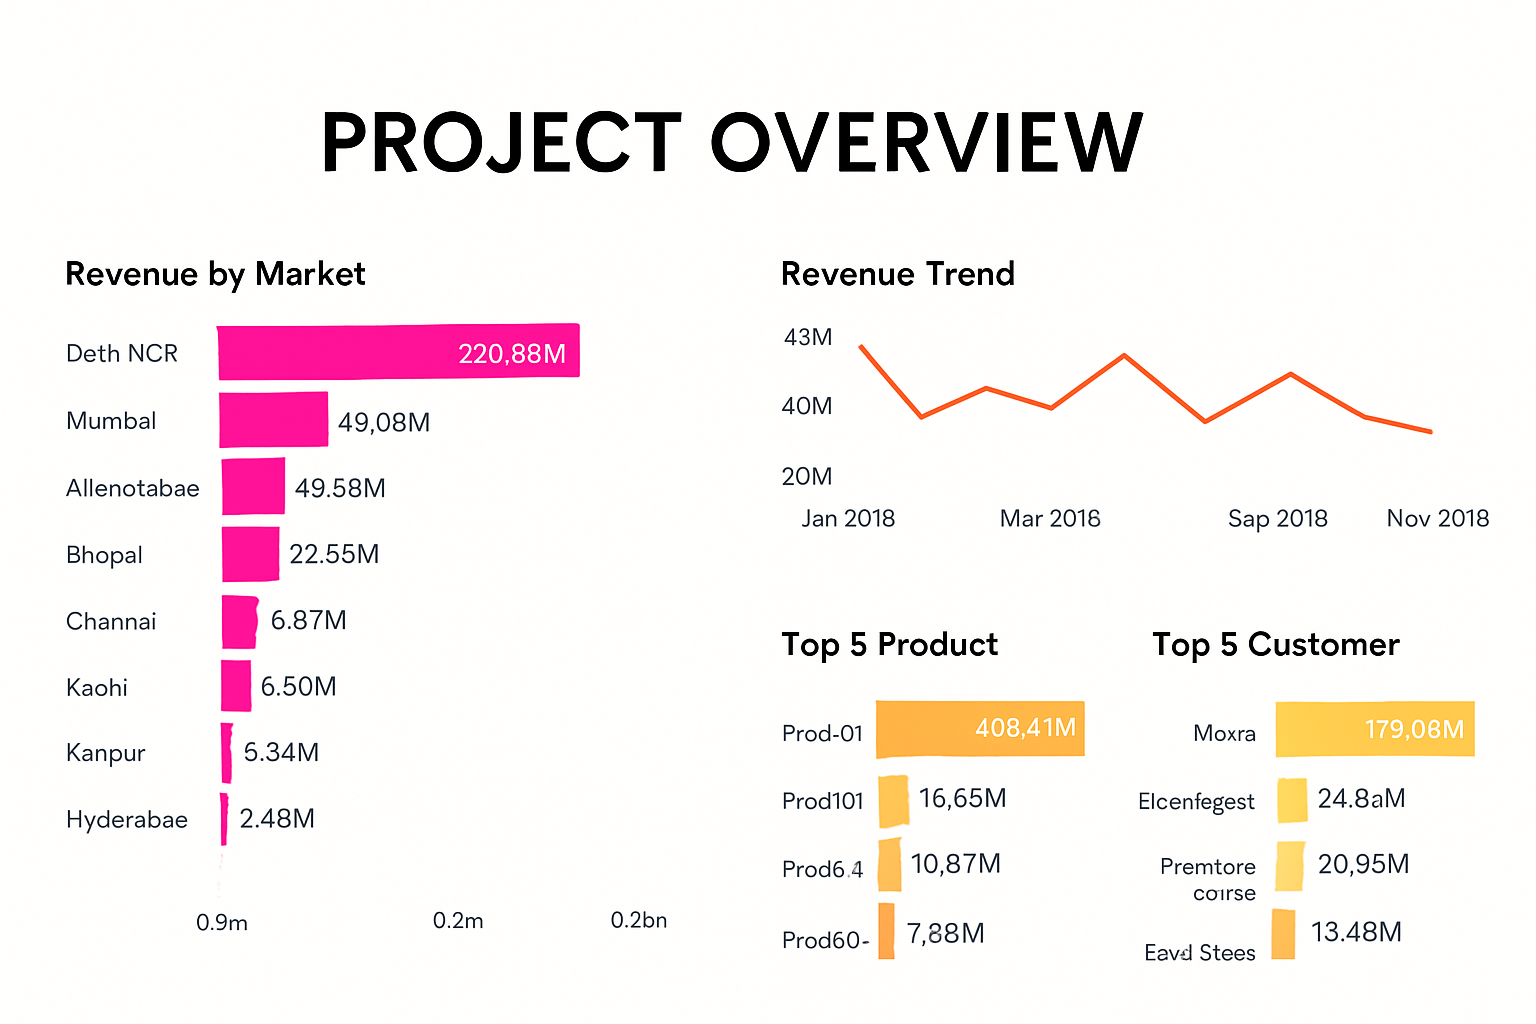

The page's visual inventory and layout, read from the dashboard file:
{"tool":"powerbi","page":{"name":"Page 1","canvas":[1300,850],"ordinal":0},"visuals":[{"type":"card","fields":{"Values":["Basemeasures.Revenue"]},"box":[34.6,20.2,241.1,90.9],"z":0},{"type":"card","fields":{"Values":["Basemeasures.Sales Qty"]},"box":[275.7,20.2,192,90.9],"z":1000},{"type":"barChart","title":"Revenue by Market","fields":{"Y":["Basemeasures.Revenue"],"Category":["sales markets.markets_name"]},"box":[10.1,157.4,284.4,630.9],"z":2000},{"type":"barChart","title":"Revenue and Sales Qty by Market","fields":{"Category":["sales markets.markets_name"],"Y":["Basemeasures.Sales Qty"]},"box":[294.5,157.4,320.5,630.9],"z":3000},{"type":"slicer","title":"Revenue by Customer","fields":{"Values":["sales date.year"]},"box":[434.5,20.2,277.2,90.9],"z":4000},{"type":"slicer","title":"Revenue by Customer","fields":{"Values":["sales date.cy_date"]},"box":[697.3,20.2,603.4,89.5],"z":5000},{"type":"barChart","title":"Top 5 Customer","fields":{"Y":["Basemeasures.Revenue"],"Category":["sales customers.custmer_name"]},"box":[945.6,473.5,355.1,293.1],"z":6000},{"type":"barChart","title":"Top 5 Product","fields":{"Y":["Basemeasures.Revenue"],"Category":["sales products.product_code"]},"box":[584.7,473.5,350.8,293.1],"z":7000},{"type":"lineChart","title":"Revenue Trend","fields":{"Y":["Basemeasures.Revenue"],"Category":["sales date.cy_date"]},"box":[615,194.9,685.7,229.5],"z":8000}]}

Visuals, with their boxes in screenshot pixels (x1, y1, x2, y2), scaled from the page's 1300x850 canvas onto the 1536x1024 screenshot:
card - Basemeasures.Revenue: locate(41, 24, 326, 134)
card - Basemeasures.Sales Qty: locate(326, 24, 553, 134)
"Revenue by Market" barChart: locate(12, 190, 348, 950)
"Revenue and Sales Qty by Market" barChart: locate(348, 190, 727, 950)
"Revenue by Customer" slicer: locate(513, 24, 841, 134)
"Revenue by Customer" slicer: locate(824, 24, 1535, 132)
"Top 5 Customer" barChart: locate(1117, 570, 1535, 924)
"Top 5 Product" barChart: locate(691, 570, 1105, 924)
"Revenue Trend" lineChart: locate(727, 235, 1535, 511)
